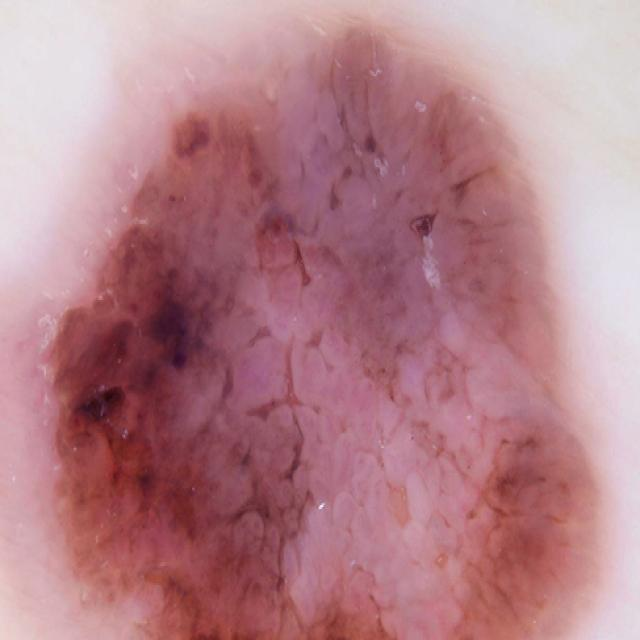Keratosis: (0, 21, 640, 640)
